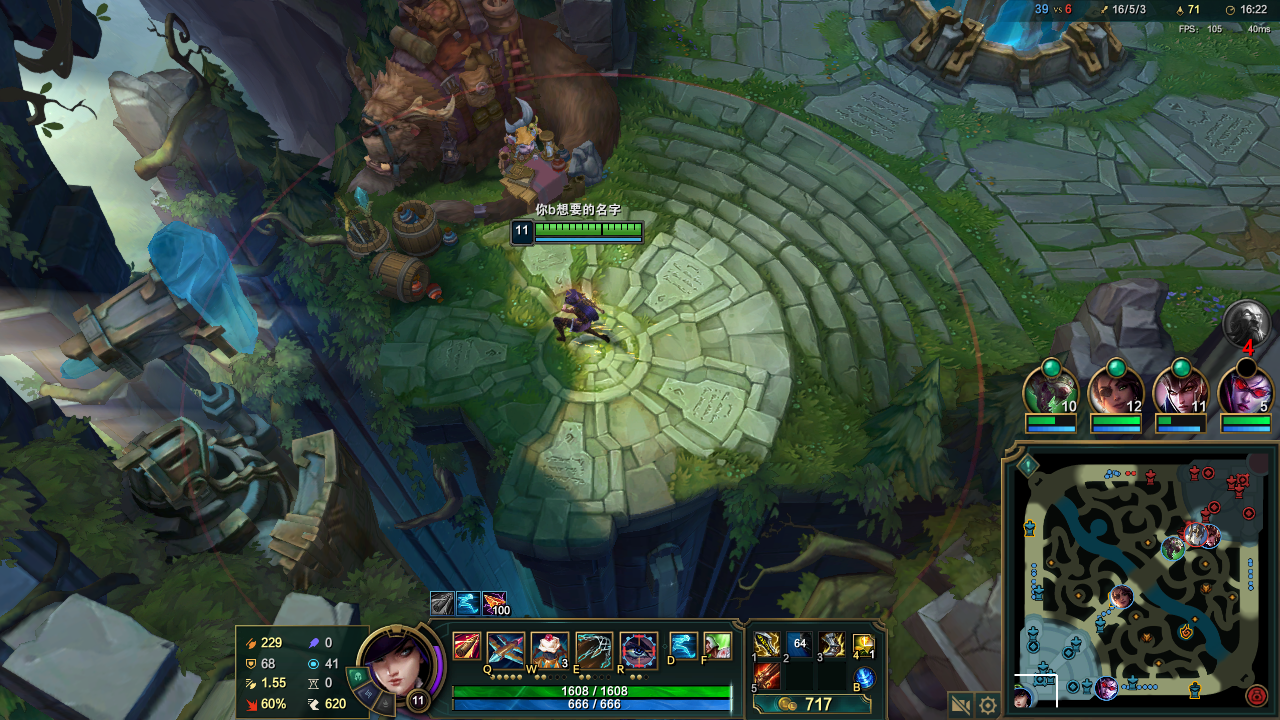Jidi: (374, 40, 563, 154)
WFSJ: (921, 18, 1005, 82)
